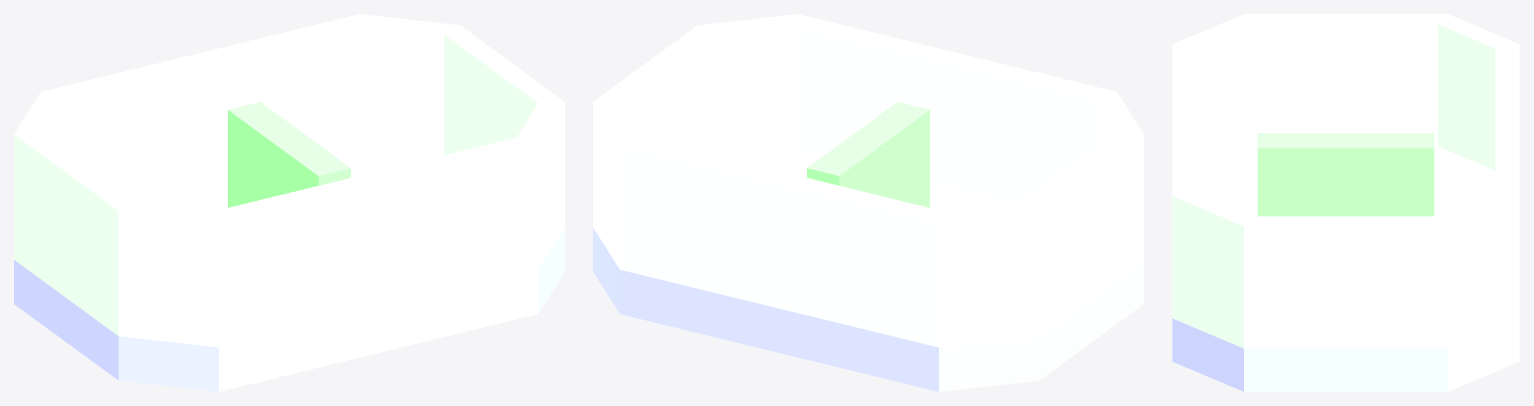
The model's file is map_will-Eb.fbx.
The picture shows the model from 3 angles, left to right: view 1: azimuth 30°, elevation 25°; view 2: azimuth 150°, elevation 25°; view 3: azimuth 270°, elevation 25°; orthographic projection. The views are drawn at different scales.
Visible parts, largest first — view 1: wall.003, wall.004, Eb, wall.002, obsticle.001; view 2: wall.003, wall.004, Eb, wall.002, obsticle.001; view 3: wall.002, wall.004, Eb, obsticle.001, wall.003.
Part boxes in pixels (x1,y1,x2,y2): wall.003: (41, 14, 537, 347); wall.004: (14, 14, 564, 347); Eb: (14, 150, 564, 391); wall.002: (14, 25, 564, 335); obsticle.001: (228, 102, 350, 207); wall.003: (620, 14, 1116, 347); wall.004: (593, 14, 1143, 347); Eb: (593, 150, 1143, 391); wall.002: (593, 25, 1143, 335); obsticle.001: (807, 102, 929, 207); wall.002: (1244, 14, 1447, 348); wall.004: (1172, 14, 1519, 348); Eb: (1172, 146, 1519, 391); obsticle.001: (1257, 133, 1434, 216); wall.003: (1172, 44, 1519, 195).
Bounding box in the file's own units: 384 × 140 × 265.
